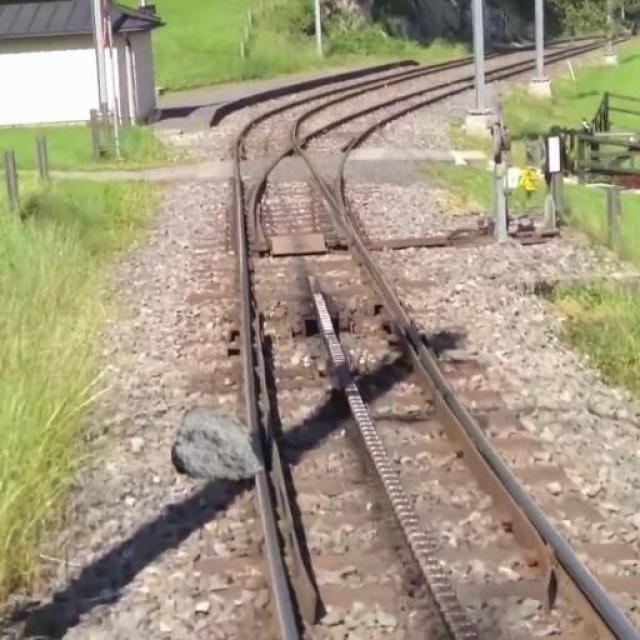Stone: (172, 406, 264, 486)
